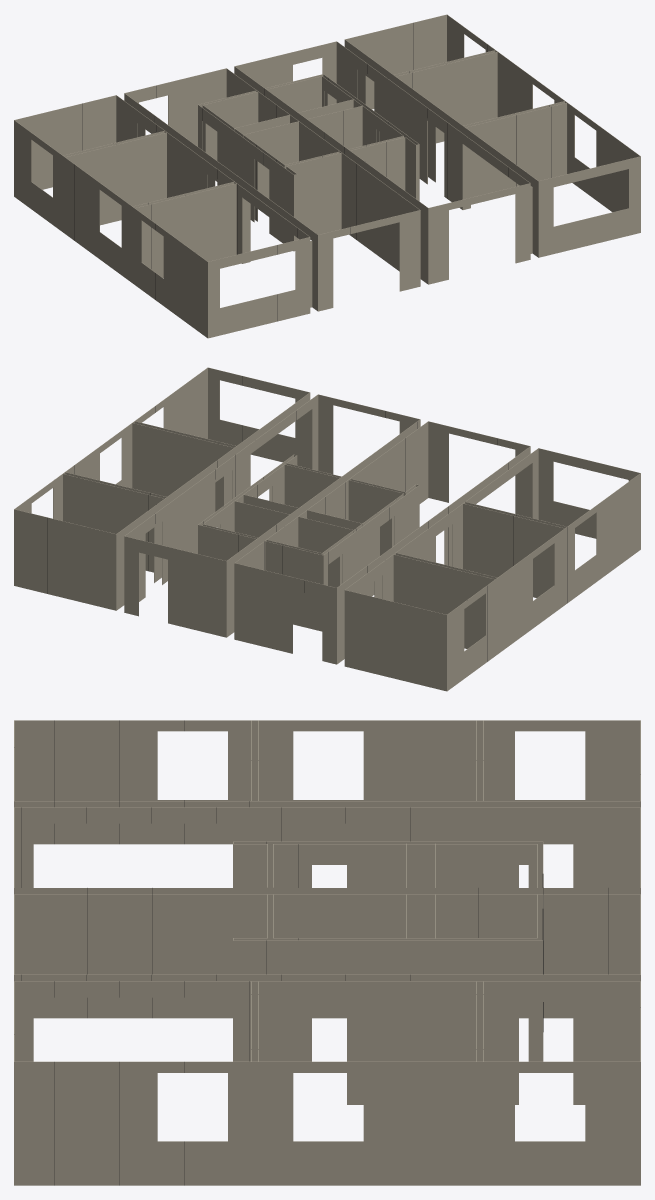
File: Kips_2_kiht.glb
The picture shows the model from 3 angles, top to bottom: view 1: azimuth 30°, elevation 25°; view 2: azimuth 150°, elevation 25°; view 3: azimuth 270°, elevation 25°; orthographic projection. The views are drawn at different scales.
Parts seen in each view (by area): view 1: Kipsplaat_1413 (×4), Kipsplaat_460 (×2), Kipsplaat_450 (×2), Kipsplaat_455 (×2), Kipsplaat_471 (×2), Kipsplaat_462 (×2), Kipsplaat_467 (×2), Kipsplaat_483 (×2), Kipsplaat_477 (×4), Kipsplaat_469 (×2), Kipsplaat_486, Kipsplaat_457 (×2) (+7 smaller); view 2: Kipsplaat_1413 (×4), Kipsplaat_460 (×2), Kipsplaat_455 (×2), Kipsplaat_467 (×2), Kipsplaat_471 (×2), Kipsplaat_450 (×2), Kipsplaat_462 (×2), Kipsplaat_481 (×2), Kipsplaat_469 (×2), Kipsplaat_477 (×4), Kipsplaat_486, Kipsplaat_483 (×2) (+7 smaller); view 3: Kipsplaat_460 (×2), Kipsplaat_471 (×2), Kipsplaat_457 (×2), Kipsplaat_486 (×2), Kipsplaat_487 (×2), Kipsplaat_458 (×2), Kipsplaat_470 (×2), Kipsplaat_469 (×2), Kipsplaat_456 (×2), Kipsplaat_468 (×2).
Part boxes in pixels (<box>): Kipsplaat_1413 (×4): <box>65,52,567,277</box>; Kipsplaat_460 (×2): <box>14,14,640,337</box>; Kipsplaat_450 (×2): <box>207,156,640,338</box>; Kipsplaat_455 (×2): <box>14,14,446,196</box>; Kipsplaat_471 (×2): <box>226,66,427,283</box>; Kipsplaat_462 (×2): <box>318,183,530,311</box>; Kipsplaat_467 (×2): <box>124,41,336,146</box>; Kipsplaat_483 (×2): <box>287,137,405,239</box>; Kipsplaat_477 (×4): <box>234,99,362,198</box>; Kipsplaat_469 (×2): <box>174,78,455,202</box>; Kipsplaat_486: <box>198,104,293,243</box>; Kipsplaat_457 (×2): <box>166,76,463,197</box>; Kipsplaat_1413 (×4): <box>63,423,564,648</box>; Kipsplaat_460 (×2): <box>14,367,640,690</box>; Kipsplaat_455 (×2): <box>14,509,447,691</box>; Kipsplaat_467 (×2): <box>124,536,336,664</box>; Kipsplaat_471 (×2): <box>227,419,428,637</box>; Kipsplaat_450 (×2): <box>208,367,640,549</box>; Kipsplaat_462 (×2): <box>318,394,530,515</box>; Kipsplaat_481 (×2): <box>198,525,323,631</box>; Kipsplaat_469 (×2): <box>174,449,456,566</box>; Kipsplaat_477 (×4): <box>234,494,363,587</box>; Kipsplaat_486: <box>323,485,419,596</box>; Kipsplaat_483 (×2): <box>284,464,403,555</box>; Kipsplaat_460 (×2): <box>14,720,640,1185</box>; Kipsplaat_471 (×2): <box>14,888,640,1018</box>; Kipsplaat_457 (×2): <box>254,801,479,1104</box>; Kipsplaat_486 (×2): <box>233,841,543,1061</box>; Kipsplaat_487 (×2): <box>233,844,536,940</box>; Kipsplaat_458 (×2): <box>479,801,640,1104</box>; Kipsplaat_470 (×2): <box>479,807,640,980</box>; Kipsplaat_469 (×2): <box>254,807,479,980</box>; Kipsplaat_456 (×2): <box>14,801,254,1061</box>; Kipsplaat_468 (×2): <box>14,807,254,980</box>.
Size of the model in its own units: 14.94 by 2.52 by 11.58.
Materials: 2 (1 with a texture image).
